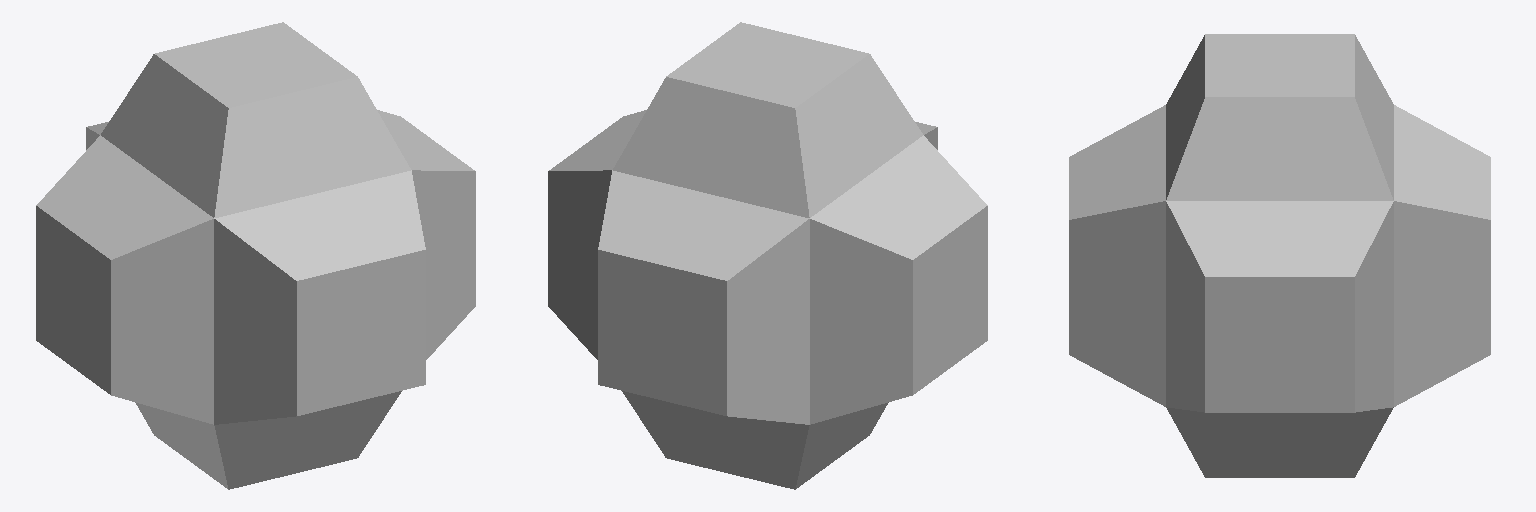
Rendered from thingy.obj.
3 renders of one model, left to right at view 1: azimuth 30°, elevation 25°; view 2: azimuth 150°, elevation 25°; view 3: azimuth 270°, elevation 25°, orthographic.
Parts seen in each view (by area): view 1: Cube_Cube.001; view 2: Cube_Cube.001; view 3: Cube_Cube.001.
Boxes of the visible parts, <box> form: Cube_Cube.001: <box>36,22,475,489</box>; Cube_Cube.001: <box>548,22,987,489</box>; Cube_Cube.001: <box>1069,34,1490,477</box>.
Bounding box in the file's own units: 3.7 × 3.7 × 3.7.